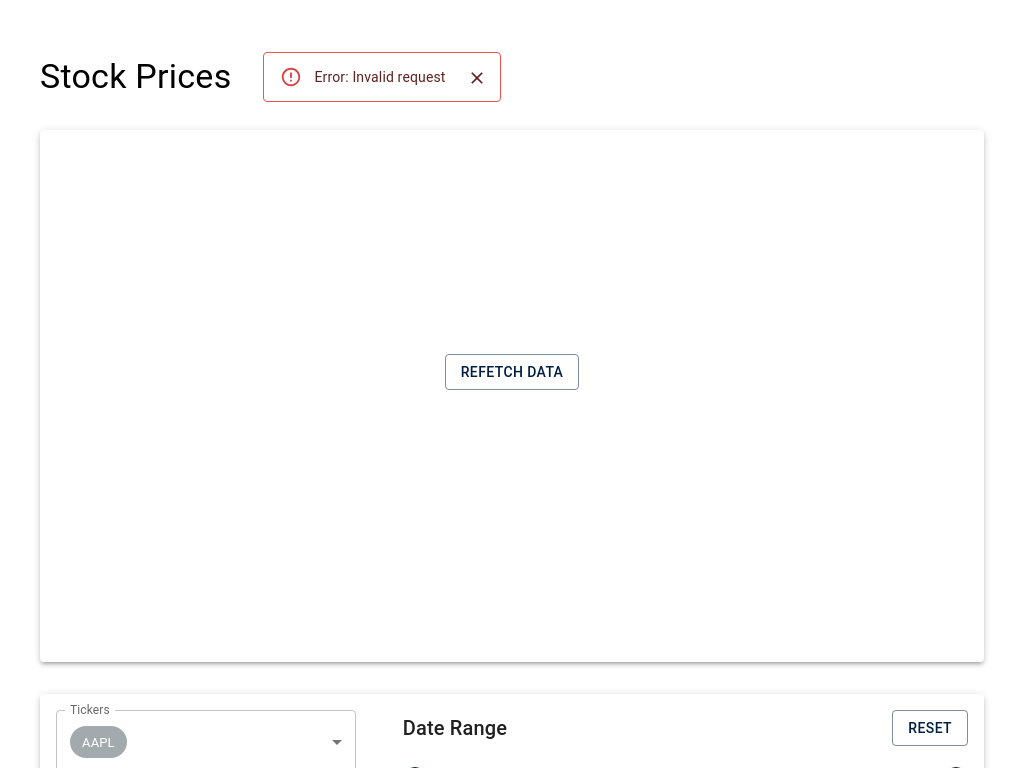
Test case: StockPrices › error handling › should show an error alert and a refetch button if fetching stock prices fails
Expected: the text "MockedChart" is not shown
Click the button "Refetch data".
click(512, 372)  # box top-left (445, 354), bottom-right (579, 390)
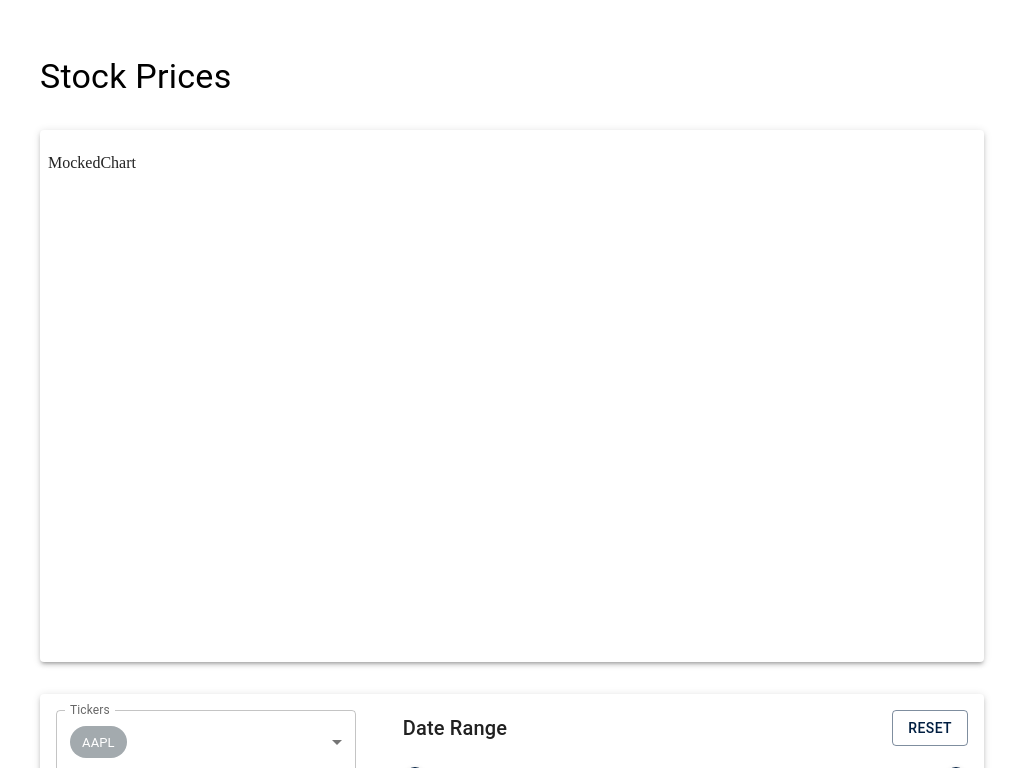
Expected: the text "MockedChart" is shown, top-left (48, 154), bottom-right (136, 171)
